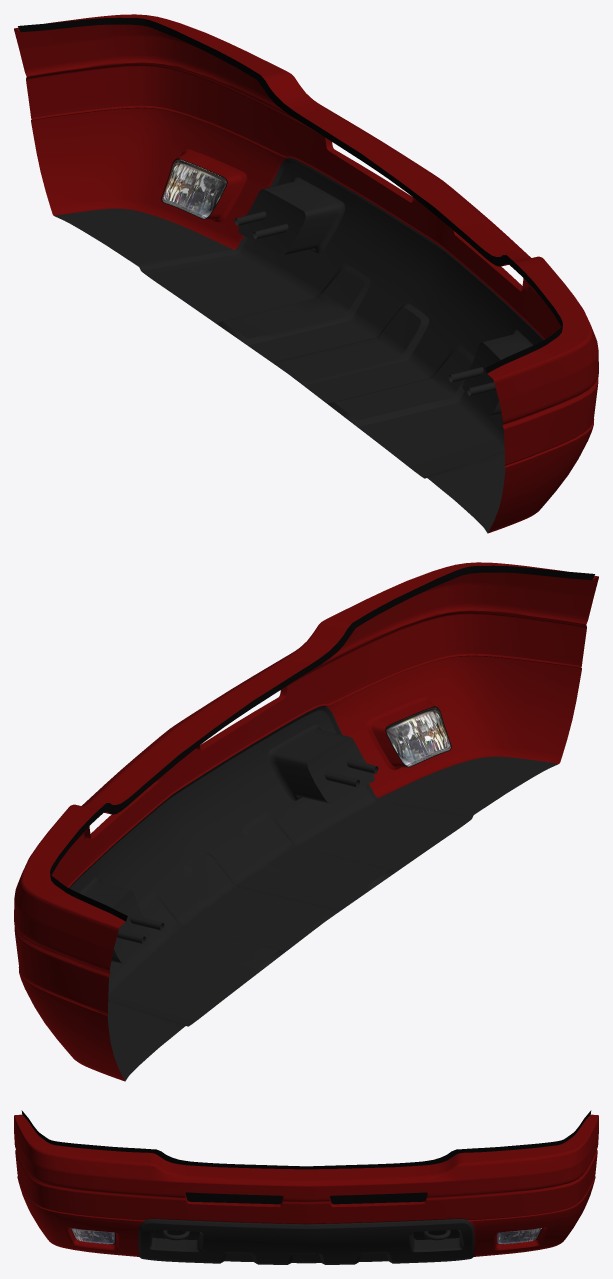
3 views of the same model, one above another, from view 1: azimuth 30°, elevation 25°; view 2: azimuth 150°, elevation 25°; view 3: azimuth 270°, elevation 25° (orthographic). The views are drawn at different scales.
Parts seen in each view (by area): view 1: U805_4A_021G_C_U805_4A_021G_C_3_DaS, U805_4A_021G_C_U805_4A_021G_C_1_D, U805_4A_021G_C_U805_4A_021G_C_9_D, U805_4A_021G_C_U805_4A_021G_C_2_D, U805_4A_021G_C_U805_4A_021G_C_6_N, U805_4A_021G_C_U805_4A_021G_C_3_DaS_E; view 2: U805_4A_021G_C_U805_4A_021G_C_3_DaS, U805_4A_021G_C_U805_4A_021G_C_1_D, U805_4A_021G_C_U805_4A_021G_C_9_D, U805_4A_021G_C_U805_4A_021G_C_2_D, U805_4A_021G_C_7_N_U805_4A_021G_C, U805_4A_021G_C_U805_4A_021G_C_3_DaS_E; view 3: U805_4A_021G_C_U805_4A_021G_C_3_DaS, U805_4A_021G_C_U805_4A_021G_C_1_D, U805_4A_021G_C_U805_4A_021G_C_9_D, U805_4A_021G_C_U805_4A_021G_C_8_D, U805_4A_021G_C_U805_4A_021G_C_3_DaS_E, U805_4A_021G_C_U805_4A_021G_C_2_D, U805_4A_021G_C_U805_4A_021G_C_4_DTaSI, U805_4A_021G_C_U805_4A_021G_C_6_N, U805_4A_021G_C_U805_4A_021G_C_5_DTaSI, U805_4A_021G_C_7_N_U805_4A_021G_C.
Boxes of the visible parts, <box> form: U805_4A_021G_C_U805_4A_021G_C_3_DaS: <box>14,14,598,533</box>; U805_4A_021G_C_U805_4A_021G_C_1_D: <box>54,157,543,533</box>; U805_4A_021G_C_U805_4A_021G_C_9_D: <box>18,17,562,373</box>; U805_4A_021G_C_U805_4A_021G_C_2_D: <box>234,189,500,415</box>; U805_4A_021G_C_U805_4A_021G_C_6_N: <box>162,159,226,218</box>; U805_4A_021G_C_U805_4A_021G_C_3_DaS_E: <box>26,62,594,467</box>; U805_4A_021G_C_U805_4A_021G_C_3_DaS: <box>14,562,598,1081</box>; U805_4A_021G_C_U805_4A_021G_C_1_D: <box>69,705,558,1081</box>; U805_4A_021G_C_U805_4A_021G_C_9_D: <box>50,565,594,921</box>; U805_4A_021G_C_U805_4A_021G_C_2_D: <box>112,737,378,963</box>; U805_4A_021G_C_7_N_U805_4A_021G_C: <box>386,707,450,766</box>; U805_4A_021G_C_U805_4A_021G_C_3_DaS_E: <box>18,610,586,1015</box>; U805_4A_021G_C_U805_4A_021G_C_3_DaS: <box>14,1114,598,1256</box>; U805_4A_021G_C_U805_4A_021G_C_1_D: <box>138,1219,541,1264</box>; U805_4A_021G_C_U805_4A_021G_C_9_D: <box>21,1110,591,1169</box>; U805_4A_021G_C_U805_4A_021G_C_8_D: <box>185,1192,427,1204</box>; U805_4A_021G_C_U805_4A_021G_C_3_DaS_E: <box>18,1170,594,1224</box>; U805_4A_021G_C_U805_4A_021G_C_2_D: <box>153,1229,459,1240</box>; U805_4A_021G_C_U805_4A_021G_C_4_DTaSI: <box>497,1228,540,1244</box>; U805_4A_021G_C_U805_4A_021G_C_6_N: <box>497,1228,540,1243</box>; U805_4A_021G_C_U805_4A_021G_C_5_DTaSI: <box>71,1228,114,1244</box>; U805_4A_021G_C_7_N_U805_4A_021G_C: <box>71,1228,114,1243</box>.
Size of the model in its own units: 40.74 by 37.75 by 175.
